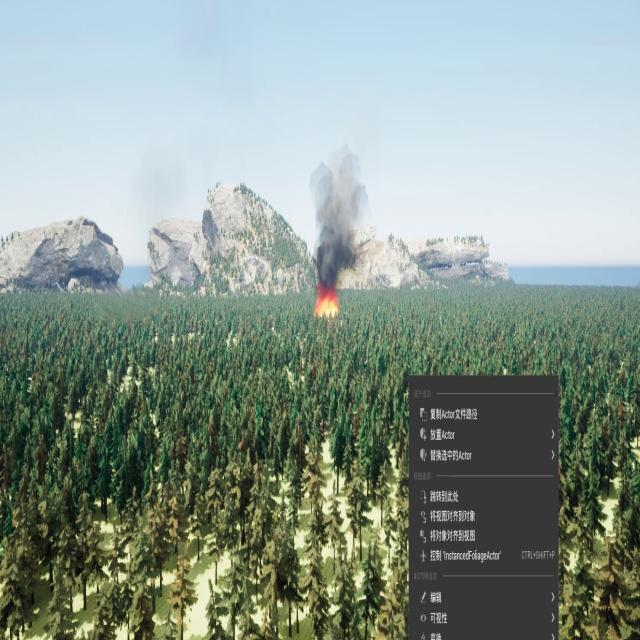fire: (311, 290, 338, 314)
smoke: (310, 138, 368, 286)
